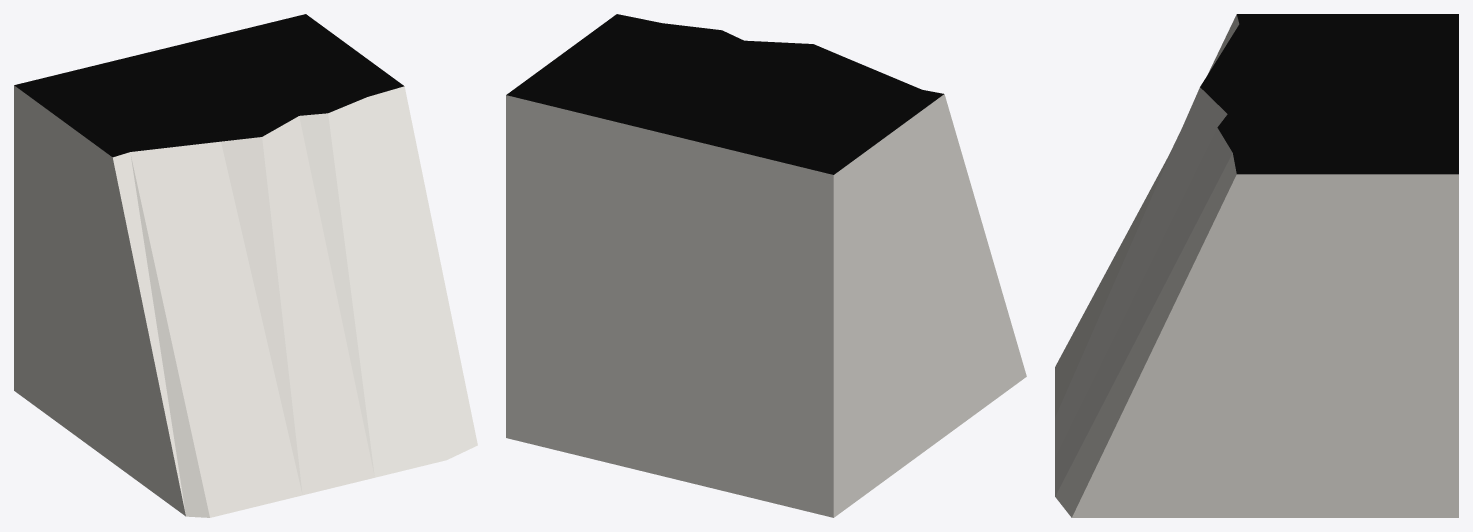
Rendered from Model_Frost_Slope_3SLTR_LRS_2.fbx.
3 views of the same model, side by side, from view 1: azimuth 30°, elevation 25°; view 2: azimuth 150°, elevation 25°; view 3: azimuth 270°, elevation 25° (orthographic). The views are drawn at different scales.
Parts seen in each view (by area): view 1: Model_Frost_Obstacle2; view 2: Model_Frost_Obstacle2; view 3: Model_Frost_Obstacle2.
Part boxes in pixels (x1,y1,x2,y2): Model_Frost_Obstacle2: [14, 14, 477, 517]; Model_Frost_Obstacle2: [506, 14, 1026, 517]; Model_Frost_Obstacle2: [1055, 14, 1458, 517].
Size of the model in its own units: 200 by 200 by 213.
Materials: 2 (1 with a texture image).
